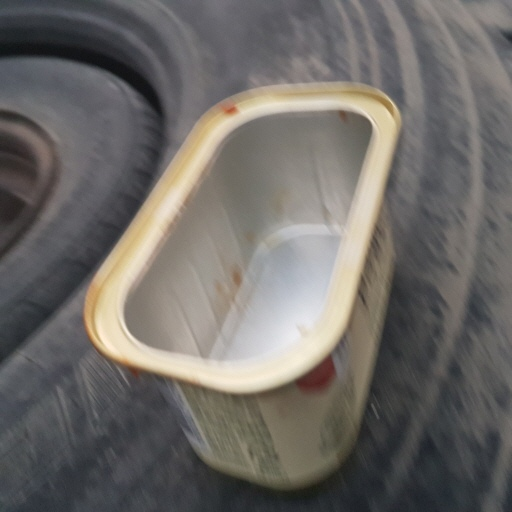Metal_2: (80, 80, 405, 484)
